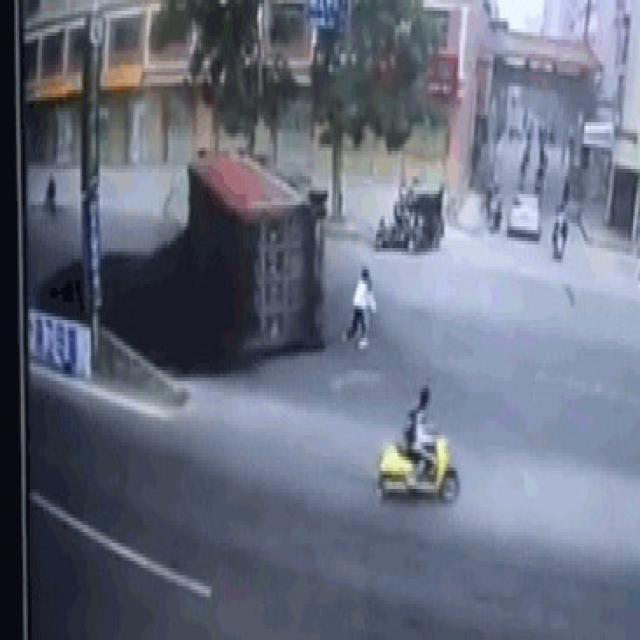single accident: (168, 145, 332, 367)
